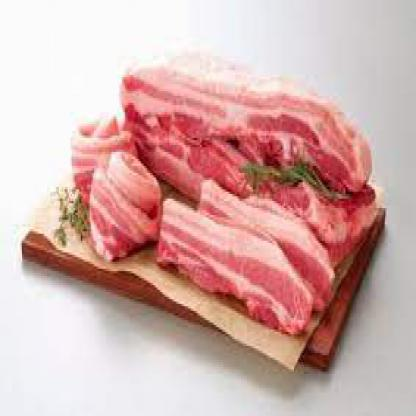pork: (66, 33, 379, 348)
